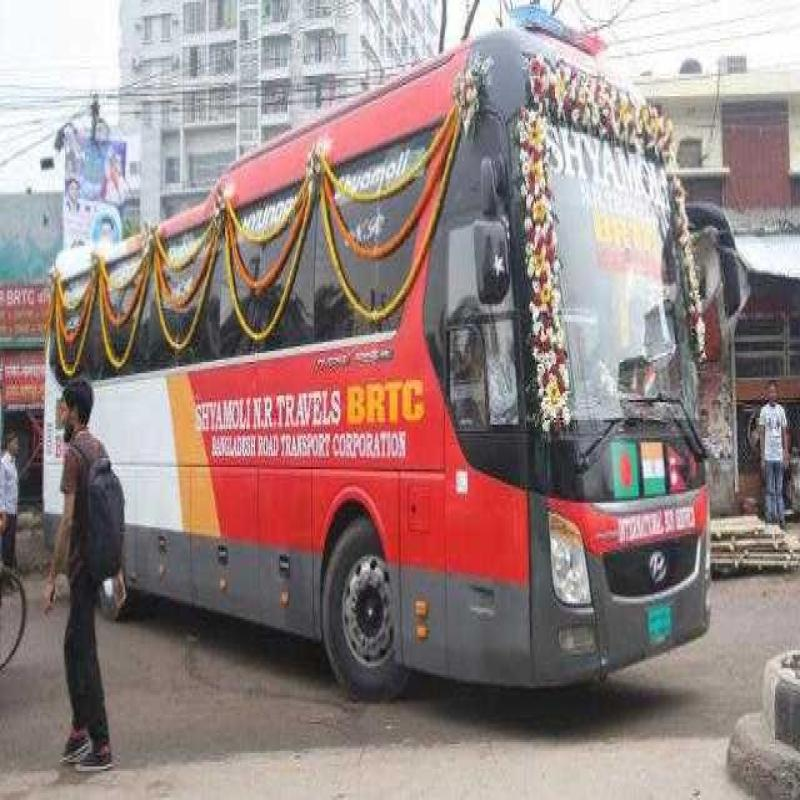bus: (44, 24, 722, 698)
